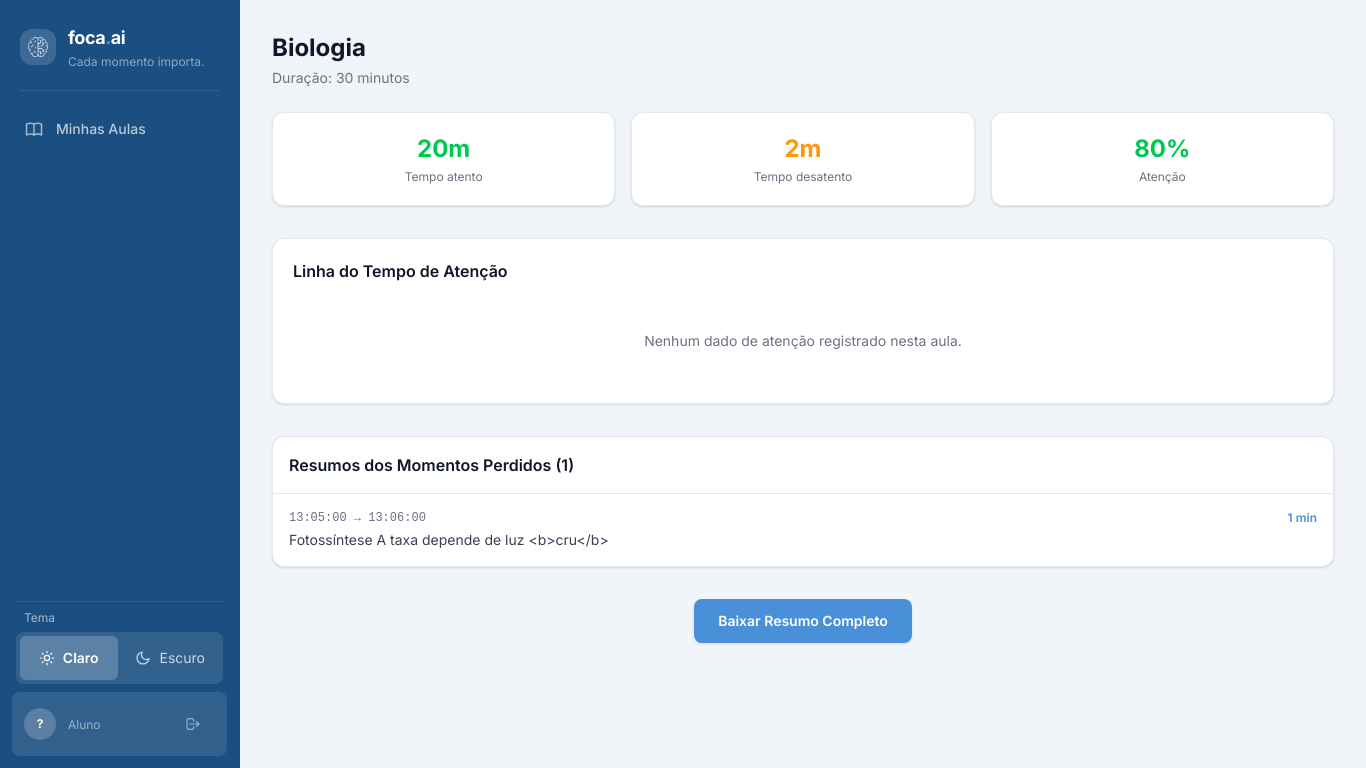
Scenario: Revisão da aula (#5) › CA13/CA14: o painel mostra o resumo em Markdown, sem HTML cru; a prévia não tem marcadores
Click the text "Fotossíntese A taxa depende de luz <b>cru</b>": (449, 540) [289, 531, 609, 548]
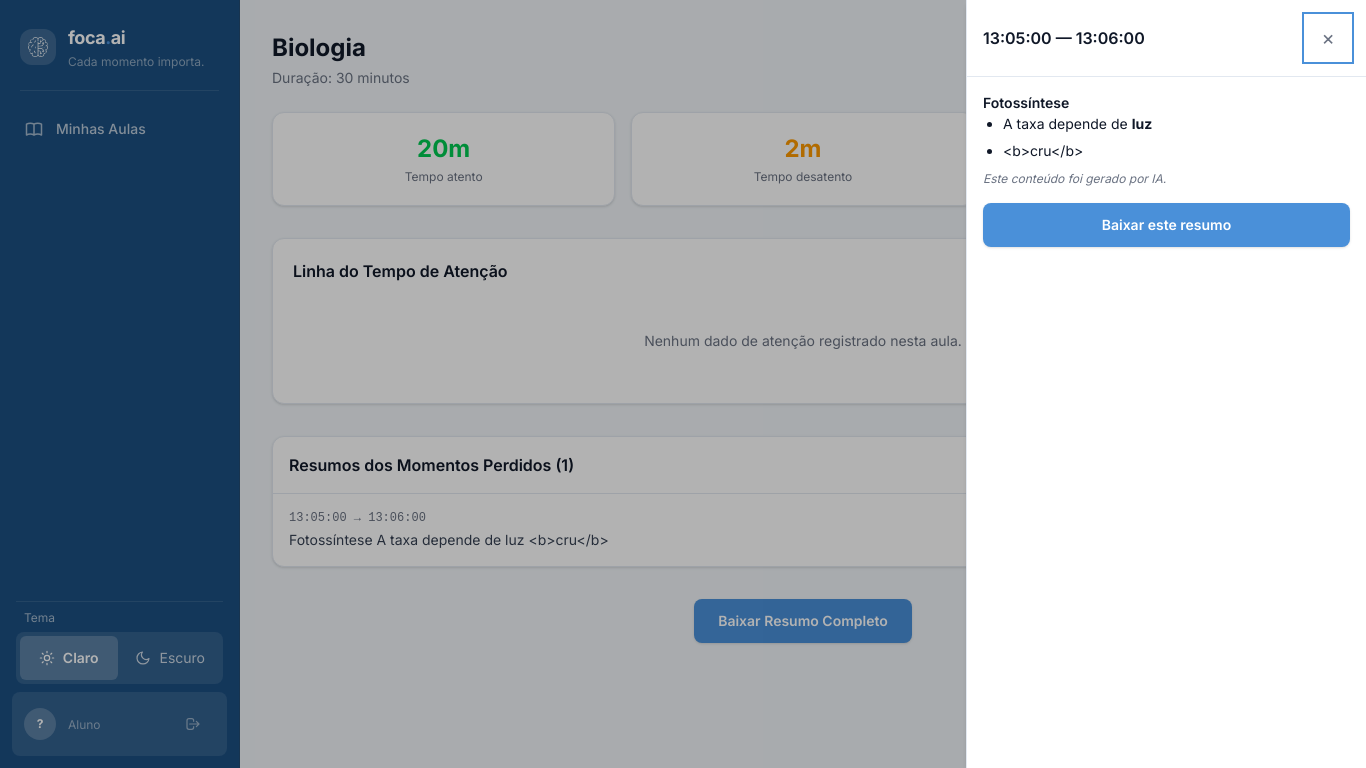
Result: the heading "Fotossíntese" is shown at [983, 94, 1069, 111]
Result: the text "luz" is shown at [1132, 115, 1152, 132]
